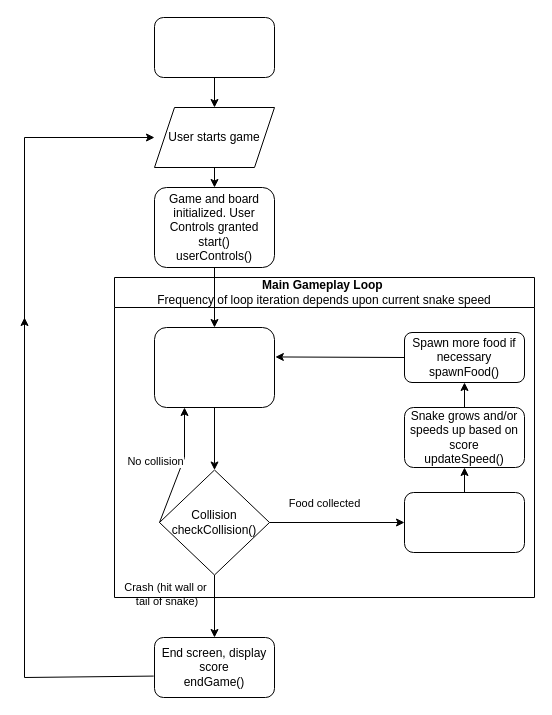
This 552x715 diagram has some shape labels left out. Each missing label, with the centre of its shape:
"Check snake direction and update position updatePosition() updateDisplay()" goes at point 214,367.
"Game loads into Start screen" goes at point 214,47.
"Snake adds food to self, increasing score updateScore()" goes at point 464,522.
